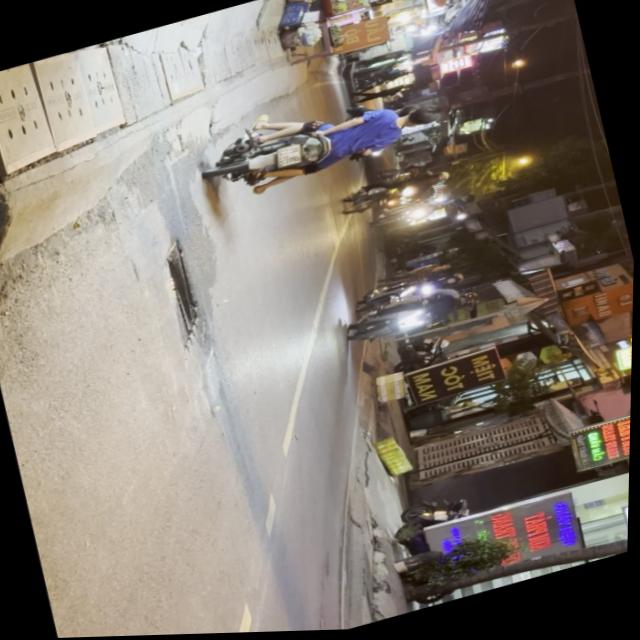licenseplate: (200, 78, 450, 209)
motorcyclist: (401, 105, 441, 134)
nohelmet: (276, 145, 305, 168)
